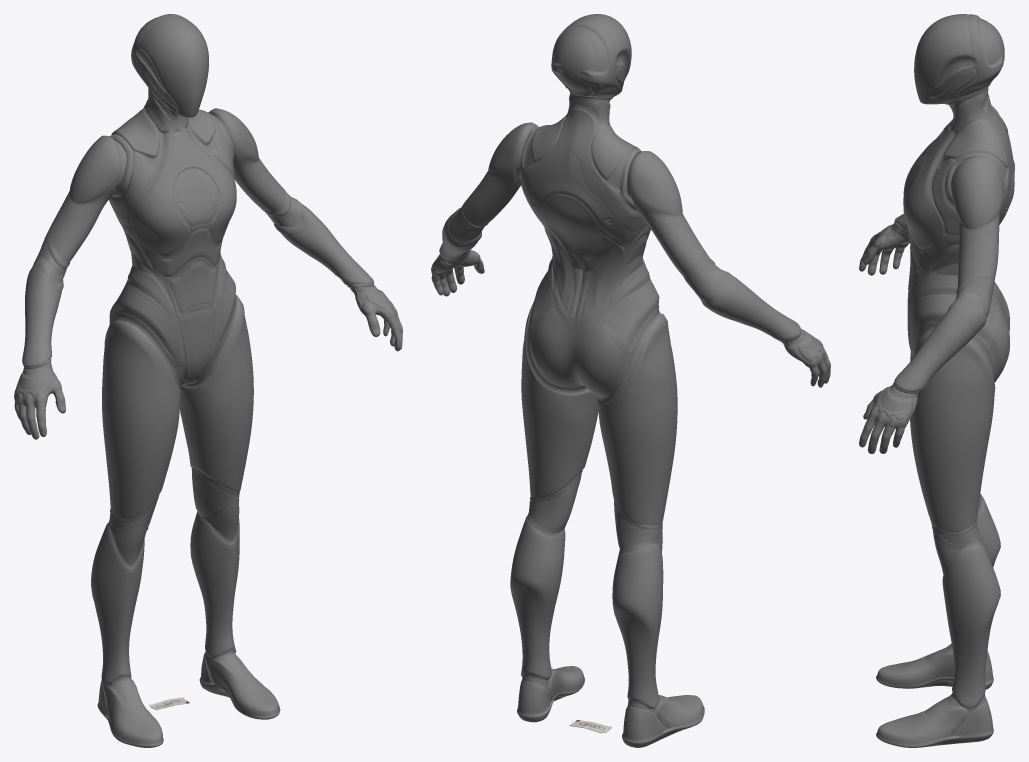
File: clever.glb
3 renders of one model, left to right at view 1: azimuth 30°, elevation 25°; view 2: azimuth 150°, elevation 25°; view 3: azimuth 270°, elevation 25°, orthographic. The views are drawn at different scales.
Parts seen in each view (by area): view 1: SKM_Quinn.001; view 2: SKM_Quinn.001; view 3: SKM_Quinn.001.
Boxes of the visible parts, <box> form: SKM_Quinn.001: <box>14,14,402,747</box>; SKM_Quinn.001: <box>431,14,830,747</box>; SKM_Quinn.001: <box>859,14,1014,747</box>.
Bounding box in the file's own units: 1.04 × 1.8 × 0.3659.
Materials: 3 (1 with a texture image).
